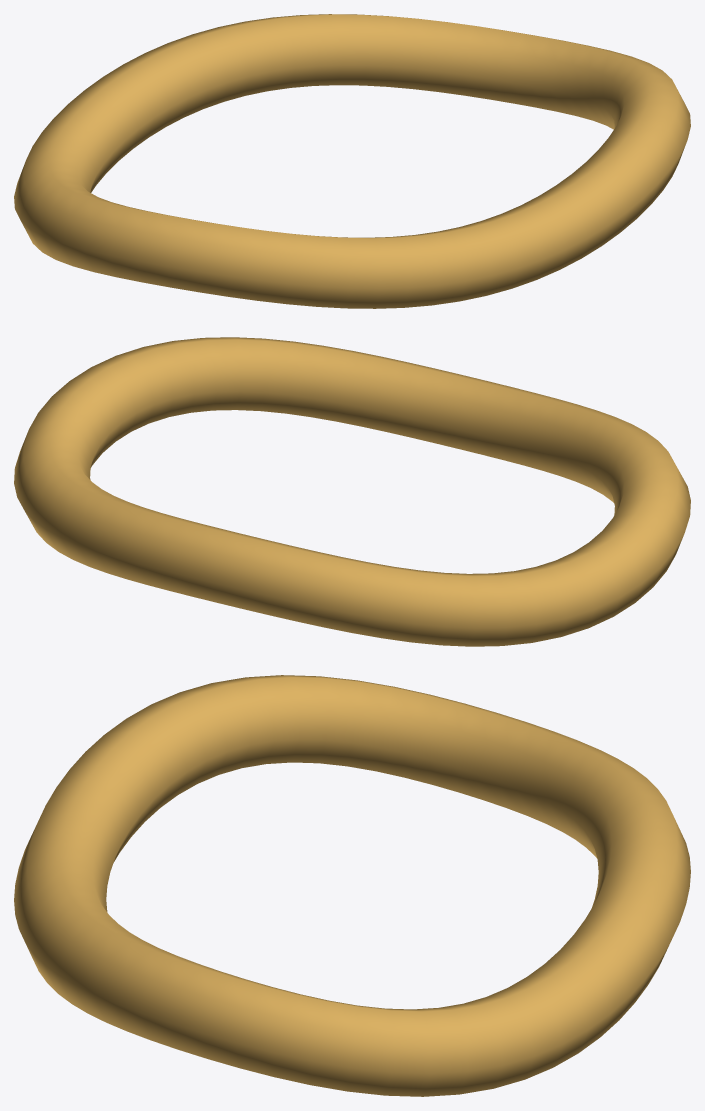
Rendered from mia-rubberband.glb.
The picture shows the model from 3 angles, top to bottom: view 1: azimuth 30°, elevation 25°; view 2: azimuth 150°, elevation 25°; view 3: azimuth 270°, elevation 25°; orthographic projection. The views are drawn at different scales.
Parts seen in each view (by area): view 1: Body_hay-light; view 2: Body_hay-light; view 3: Body_hay-light.
Part boxes in pixels (<box>): Body_hay-light: <box>14,14,690,308</box>; Body_hay-light: <box>14,337,690,646</box>; Body_hay-light: <box>14,675,690,1096</box>.
Bounding box in the file's own units: 0.168 × 0.024 × 0.132.
